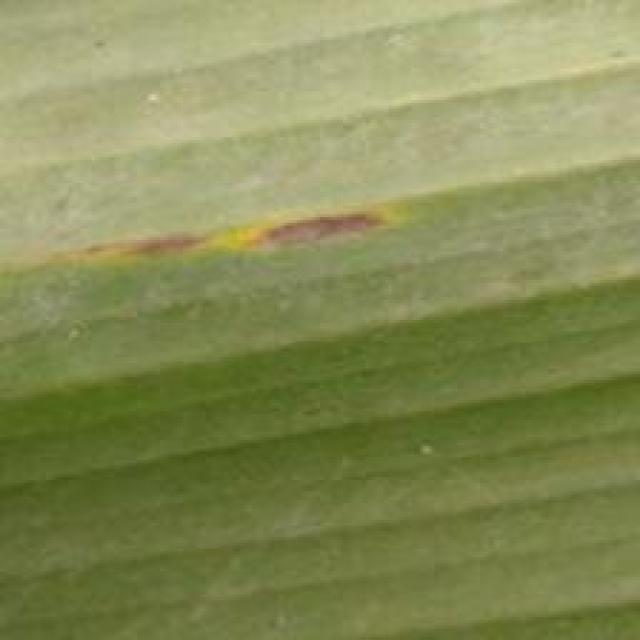Early_leaf_spot: (38, 194, 430, 285)
